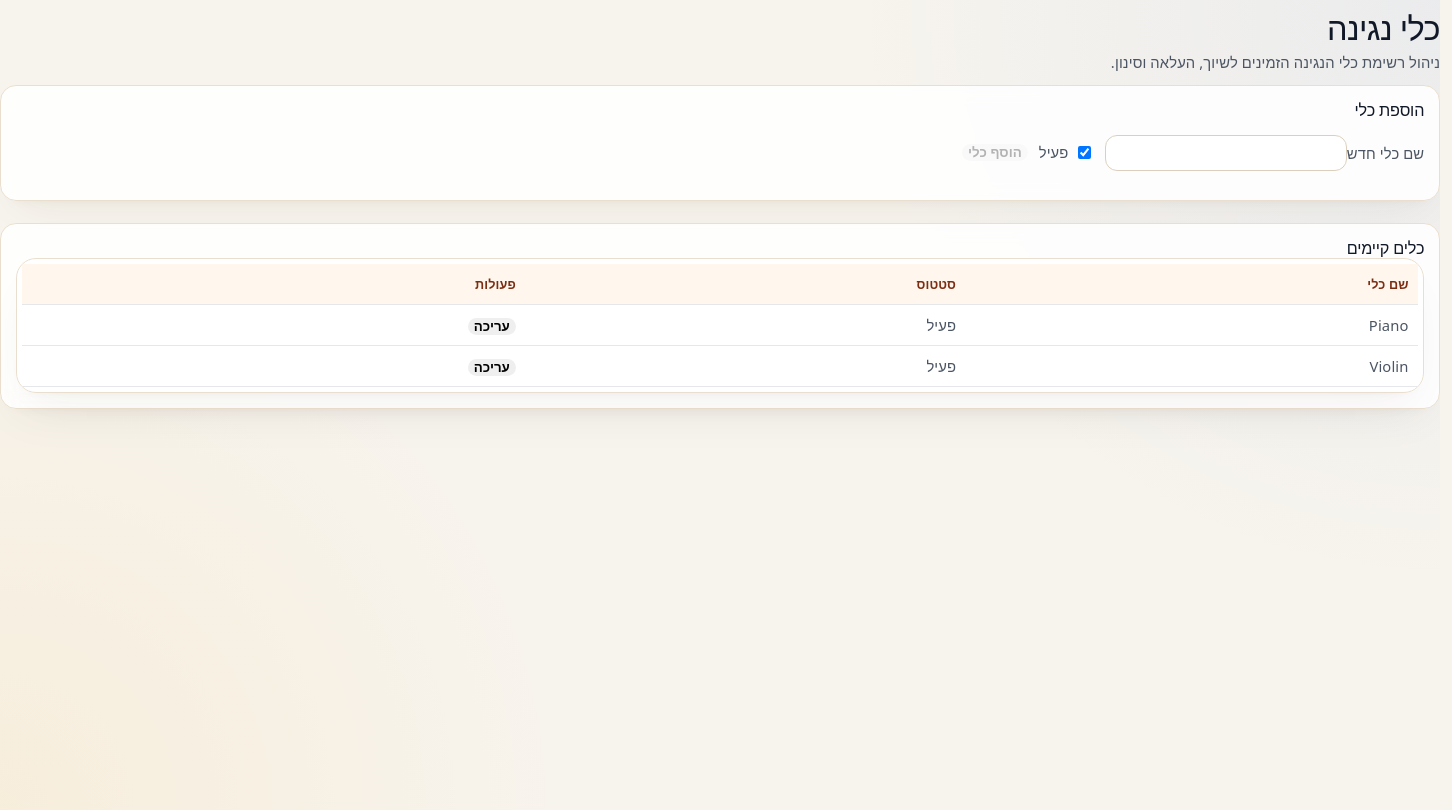
Scenario: AdminInstrumentsPage › displays API error messages
The image size is (1452, 810).
Expected: the text "Piano" is shown, x1=966 y1=305 x2=1418 y2=346
Type "Piano" into the field labelled "שם כלי חדש".
click(1226, 153); type("Piano")  # box x1=1105 y1=135 x2=1347 y2=171
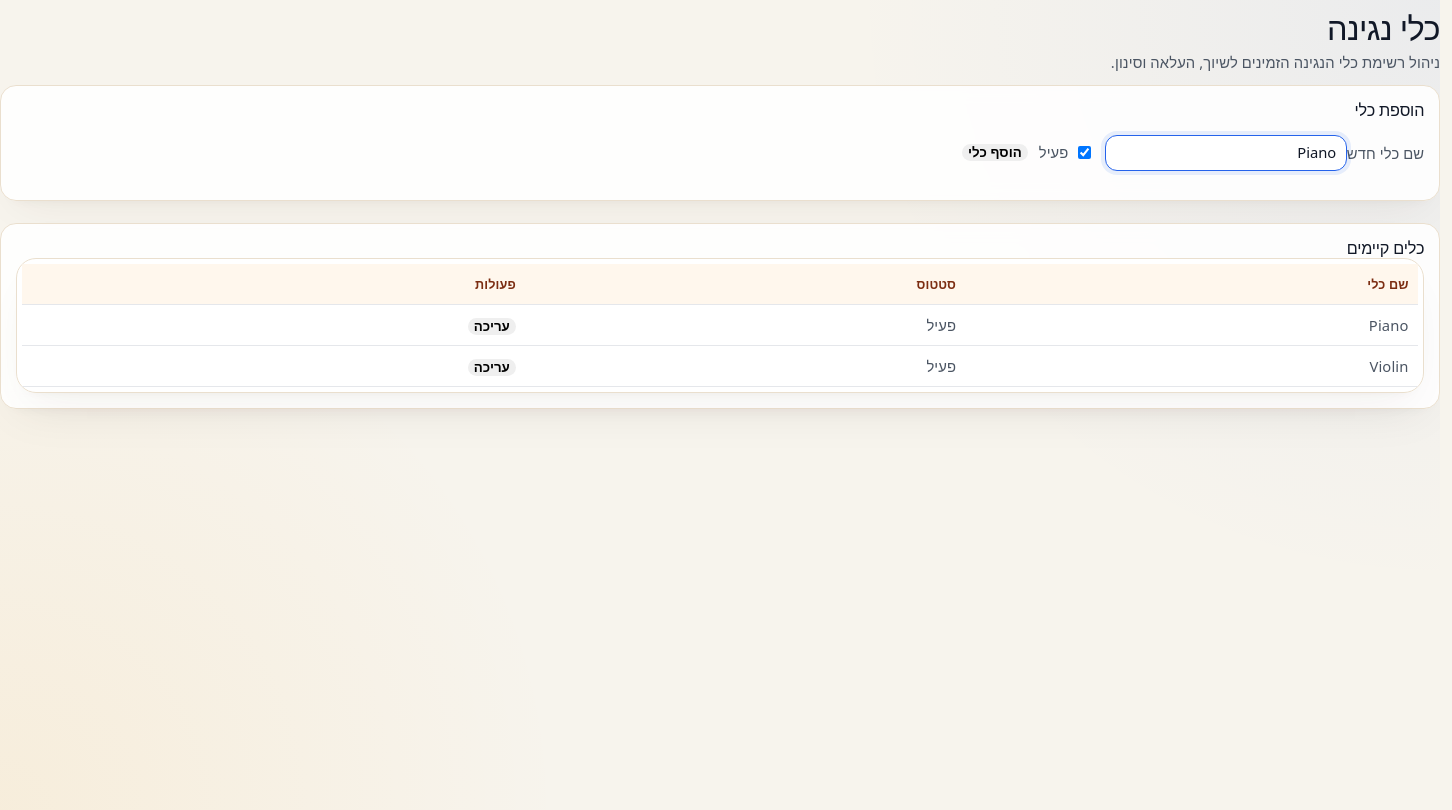
Click the button "הוסף כלי".
click(995, 153)  # box x1=962 y1=144 x2=1028 y2=161
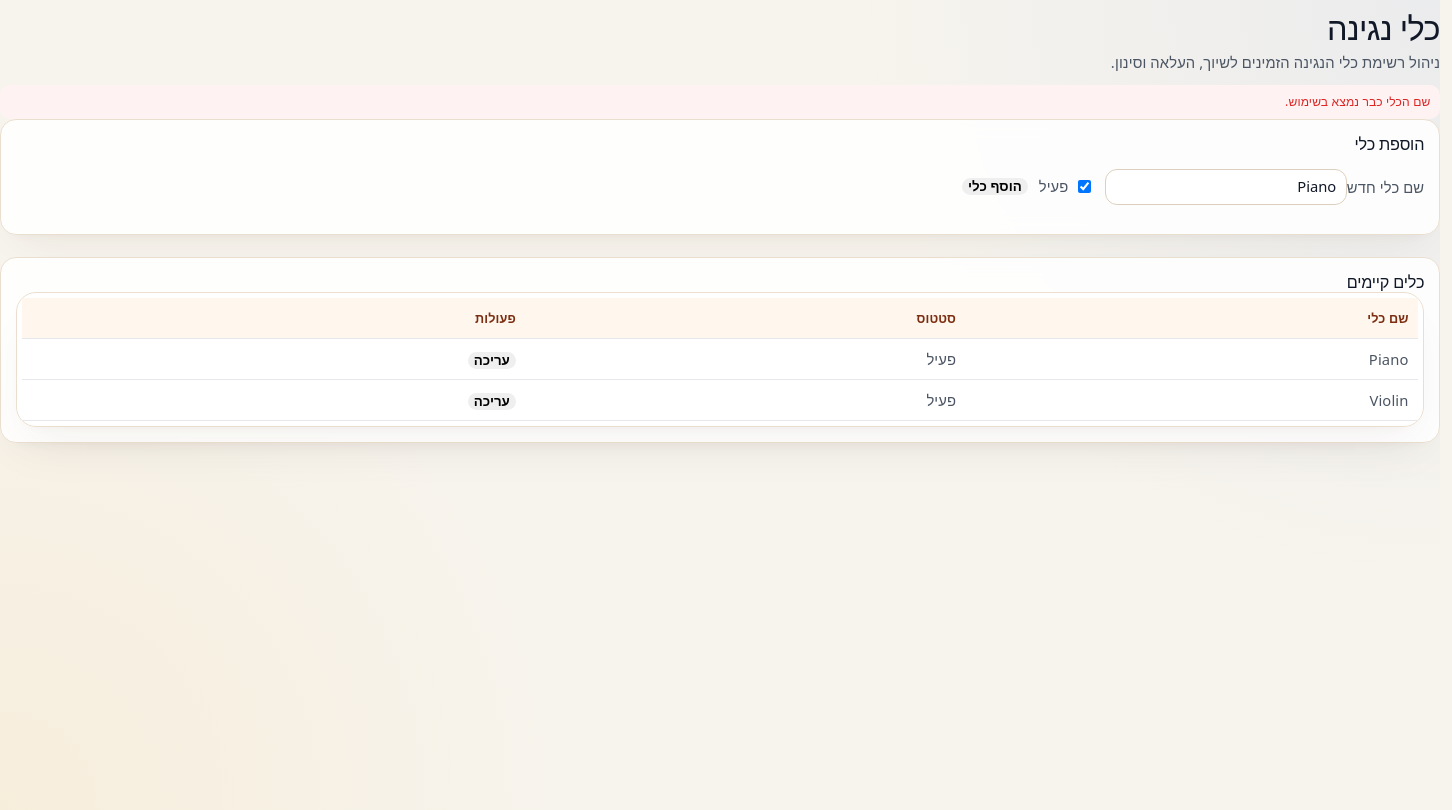
Now the text "שם הכלי כבר נמצא בשימוש." is shown, box x1=0 y1=85 x2=1440 y2=119
